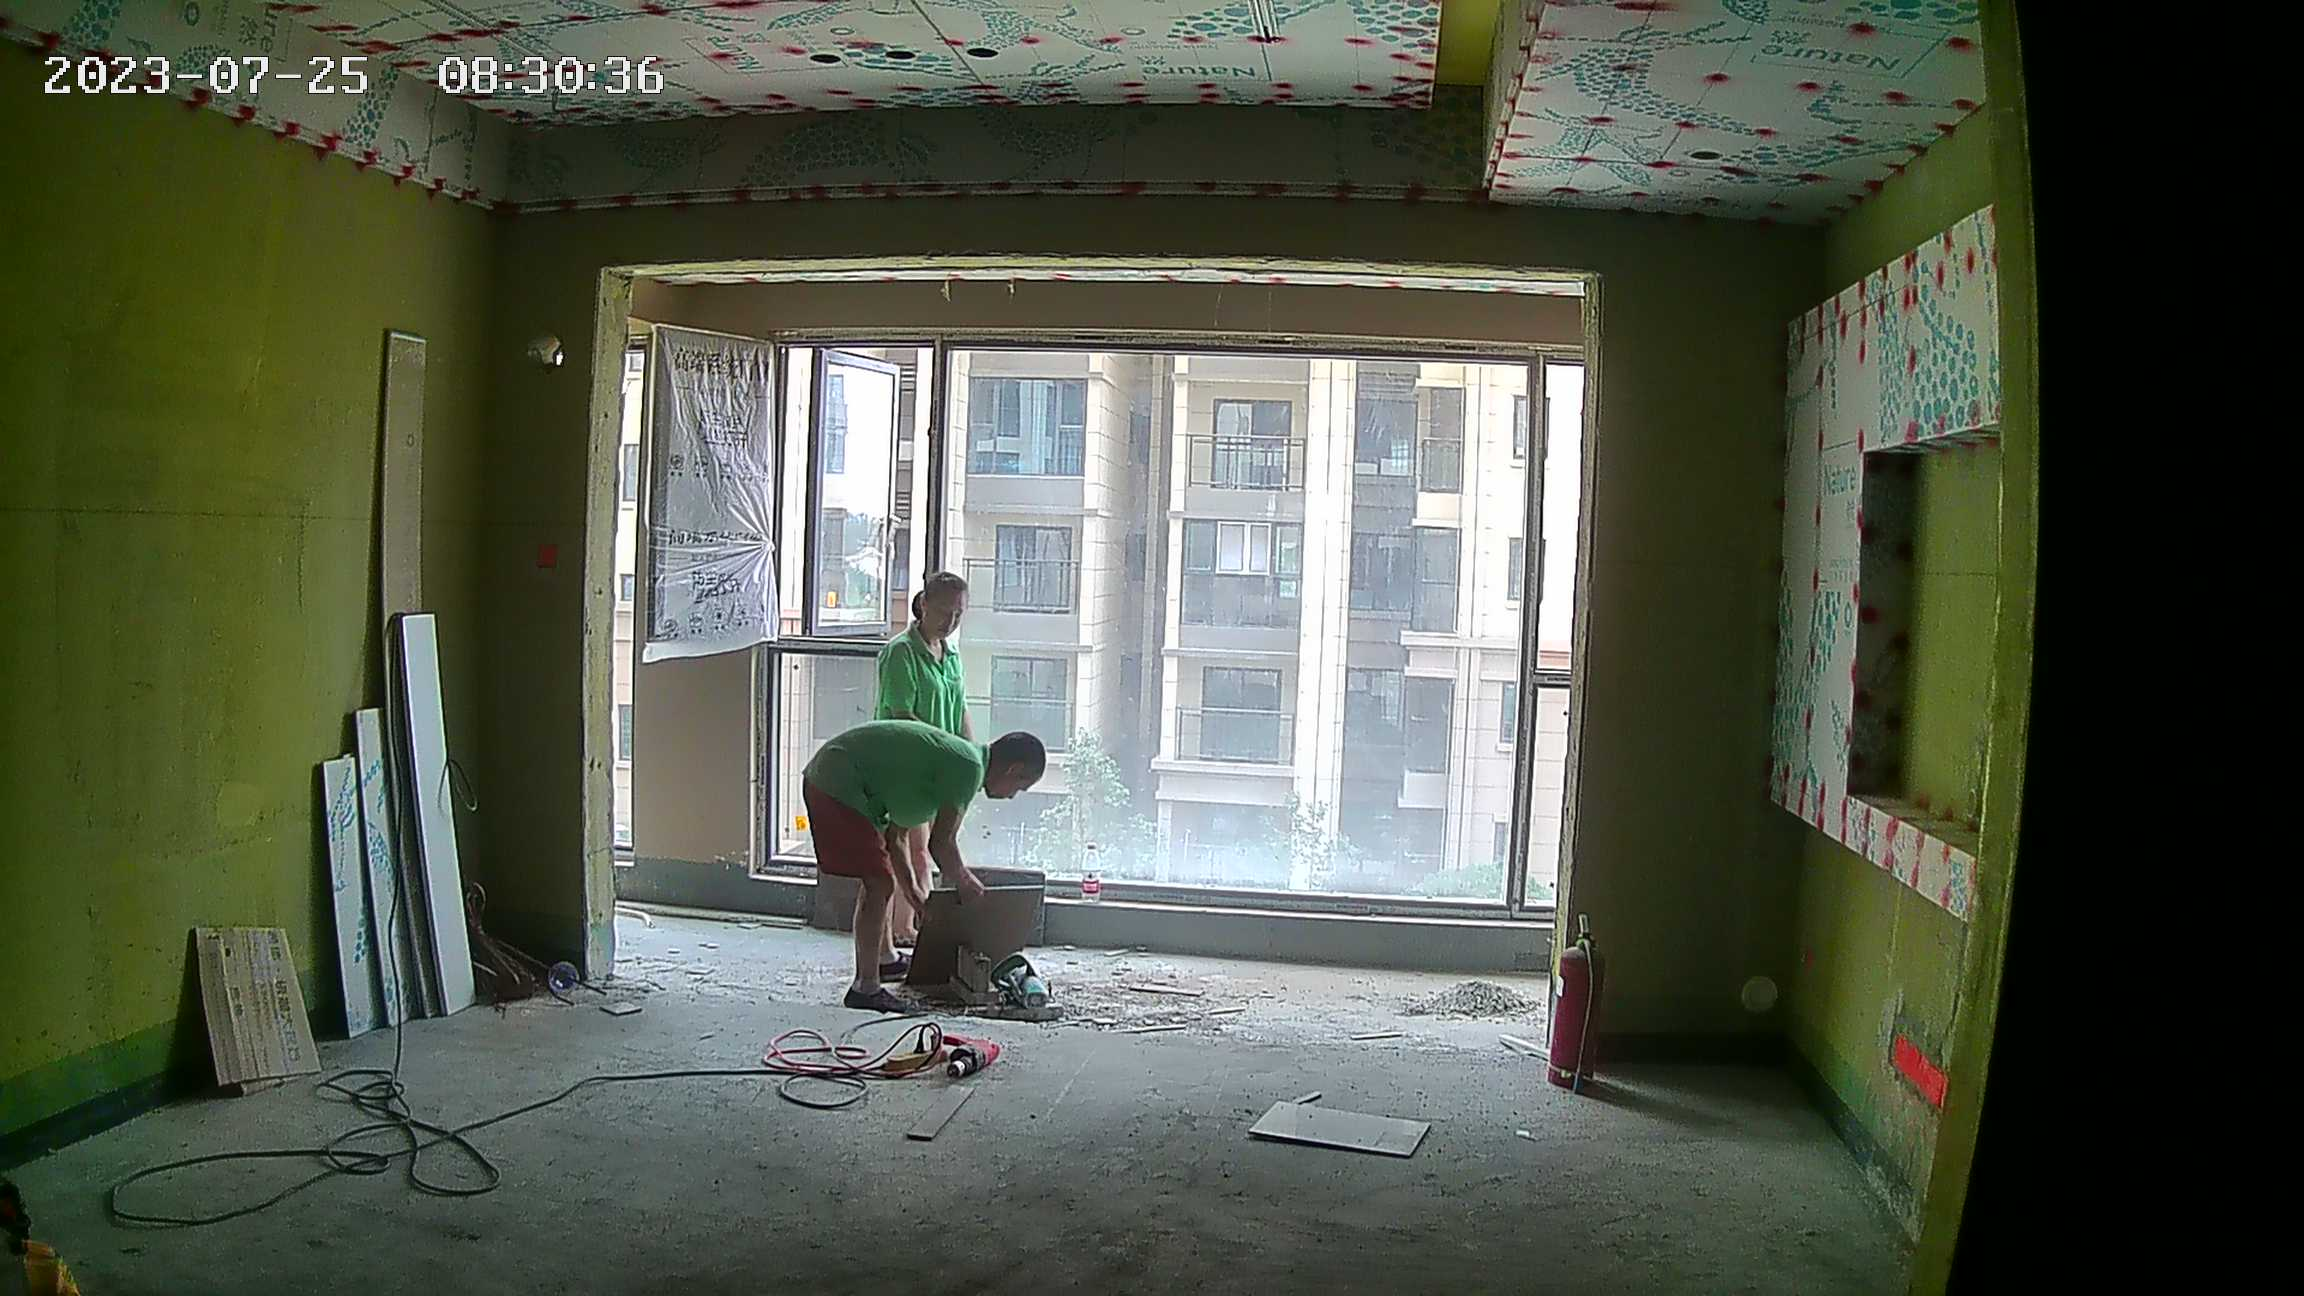people: (802, 726, 1047, 1023), (874, 570, 981, 735)
window: (757, 330, 1563, 920)
